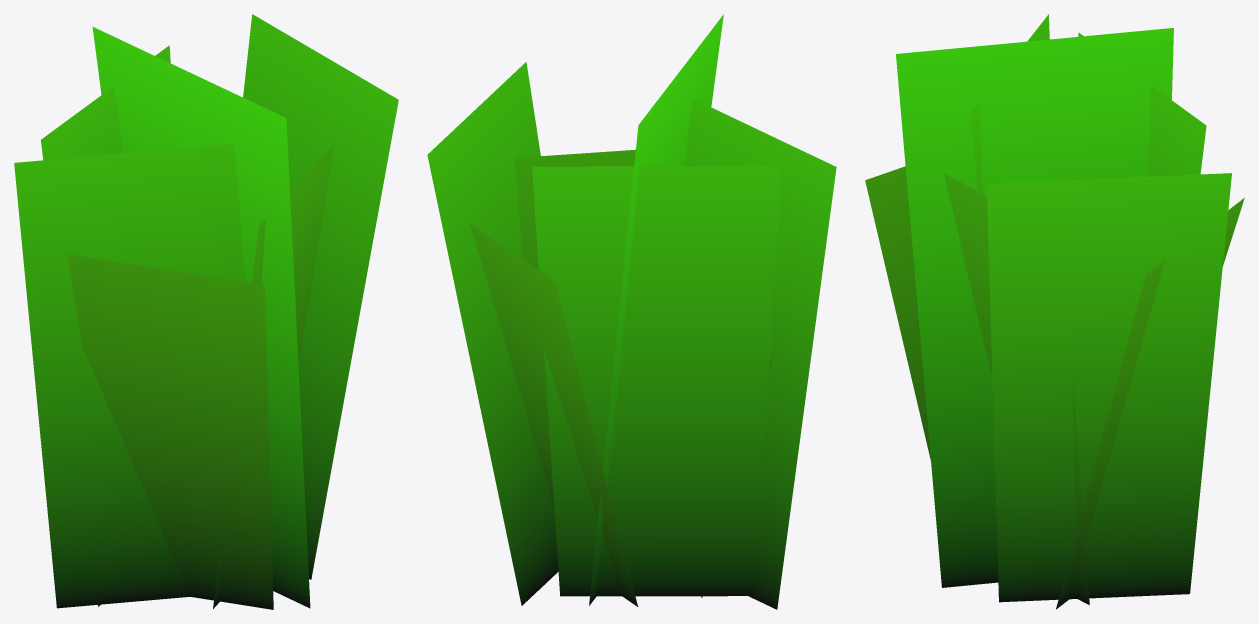
File: GrassPatch_04.fbx
3 renders of one model, left to right at view 1: azimuth 30°, elevation 25°; view 2: azimuth 150°, elevation 25°; view 3: azimuth 270°, elevation 25°, orthographic. The views are drawn at different scales.
Visible parts, largest first — view 1: TEM_Grass_Patch_04A_LOD0; view 2: TEM_Grass_Patch_04A_LOD0; view 3: TEM_Grass_Patch_04A_LOD0.
Part boxes in pixels (bbox=[...]): TEM_Grass_Patch_04A_LOD0: bbox=[14, 14, 398, 609]; TEM_Grass_Patch_04A_LOD0: bbox=[427, 14, 836, 609]; TEM_Grass_Patch_04A_LOD0: bbox=[865, 14, 1244, 609].
Bounding box in the file's own units: 65.73 × 92.49 × 62.18.
